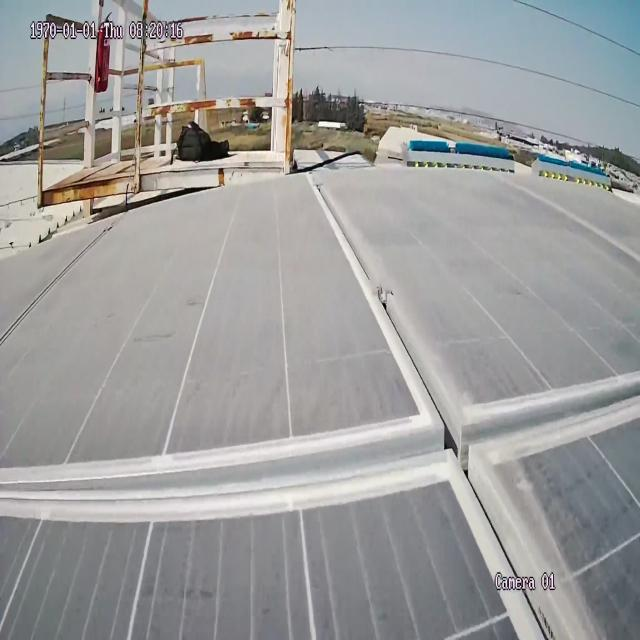interior panel: (7, 202, 640, 640)
